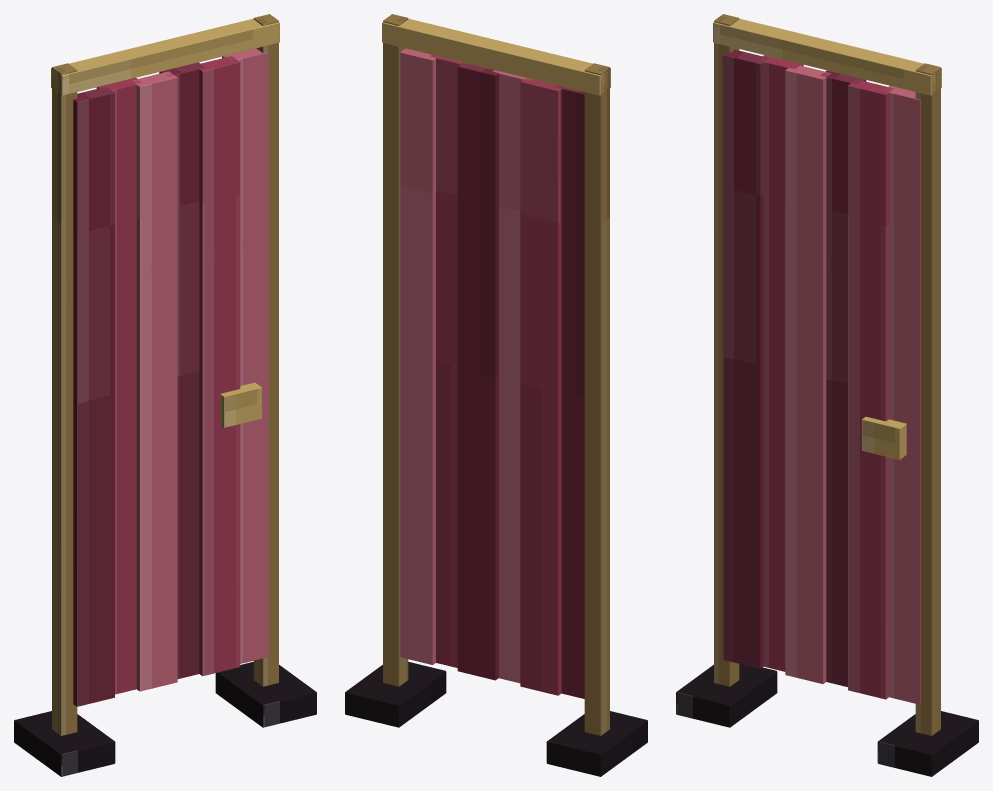
The model's file is privacy_curtain.glb.
3 views of the same model, side by side, from view 1: azimuth 30°, elevation 25°; view 2: azimuth 150°, elevation 25°; view 3: azimuth 330°, elevation 25° (orthographic).
Parts seen in each view (by area): view 1: CurtainFold_3, CurtainFold_1, CurtainFold_5, CurtainFold_6, CurtainPost_L, CurtainFold_4, CurtainFold_2, CurtainPost_R, CurtainRail, CurtainFoot_L, CurtainFoot_R, CurtainTie; view 2: CurtainFold_2, CurtainFold_4, CurtainFold_6, CurtainPost_L, CurtainFold_1, CurtainFold_5, CurtainFold_3, CurtainPost_R, CurtainRail, CurtainFoot_R, CurtainFoot_L; view 3: CurtainFold_1, CurtainFold_3, CurtainFold_5, CurtainFold_6, CurtainFold_2, CurtainFold_4, CurtainPost_R, CurtainRail, CurtainPost_L, CurtainFoot_R, CurtainFoot_L, CurtainTie.
Part boxes in pixels (bbox=[...]): CurtainFold_3: bbox=[132, 71, 177, 691]; CurtainFold_1: bbox=[73, 87, 114, 706]; CurtainFold_5: bbox=[199, 56, 240, 676]; CurtainFold_6: bbox=[222, 48, 268, 663]; CurtainPost_L: bbox=[52, 63, 77, 735]; CurtainFold_4: bbox=[159, 62, 205, 678]; CurtainFold_2: bbox=[96, 78, 142, 694]; CurtainPost_R: bbox=[253, 14, 278, 686]; CurtainRail: bbox=[51, 18, 279, 95]; CurtainFoot_L: bbox=[14, 711, 115, 776]; CurtainFoot_R: bbox=[215, 662, 316, 727]; CurtainTie: bbox=[220, 382, 261, 427]; CurtainFold_2: bbox=[520, 78, 562, 695]; CurtainFold_4: bbox=[457, 62, 498, 680]; CurtainFold_6: bbox=[400, 48, 436, 664]; CurtainPost_L: bbox=[584, 63, 609, 735]; CurtainFold_1: bbox=[555, 85, 584, 698]; CurtainFold_5: bbox=[430, 55, 468, 667]; CurtainFold_3: bbox=[493, 70, 531, 683]; CurtainPost_R: bbox=[383, 14, 408, 686]; CurtainRail: bbox=[382, 18, 610, 95]; CurtainFoot_R: bbox=[345, 662, 446, 727]; CurtainFoot_L: bbox=[546, 711, 647, 776]; CurtainFold_1: bbox=[722, 49, 767, 668]; CurtainFold_3: bbox=[785, 65, 830, 683]; CurtainFold_5: bbox=[848, 79, 893, 699]; CurtainFold_6: bbox=[885, 86, 920, 704]; CurtainFold_2: bbox=[758, 55, 803, 671]; CurtainFold_4: bbox=[820, 70, 866, 686]; CurtainPost_R: bbox=[915, 63, 940, 735]; CurtainRail: bbox=[713, 18, 941, 95]; CurtainPost_L: bbox=[714, 14, 739, 686]; CurtainFoot_R: bbox=[877, 711, 978, 776]; CurtainFoot_L: bbox=[676, 664, 777, 727]; CurtainTie: bbox=[861, 416, 906, 459].
Size of the model in its own units: 0.94 by 2.4 by 0.3.
1 material, 1 textured.
